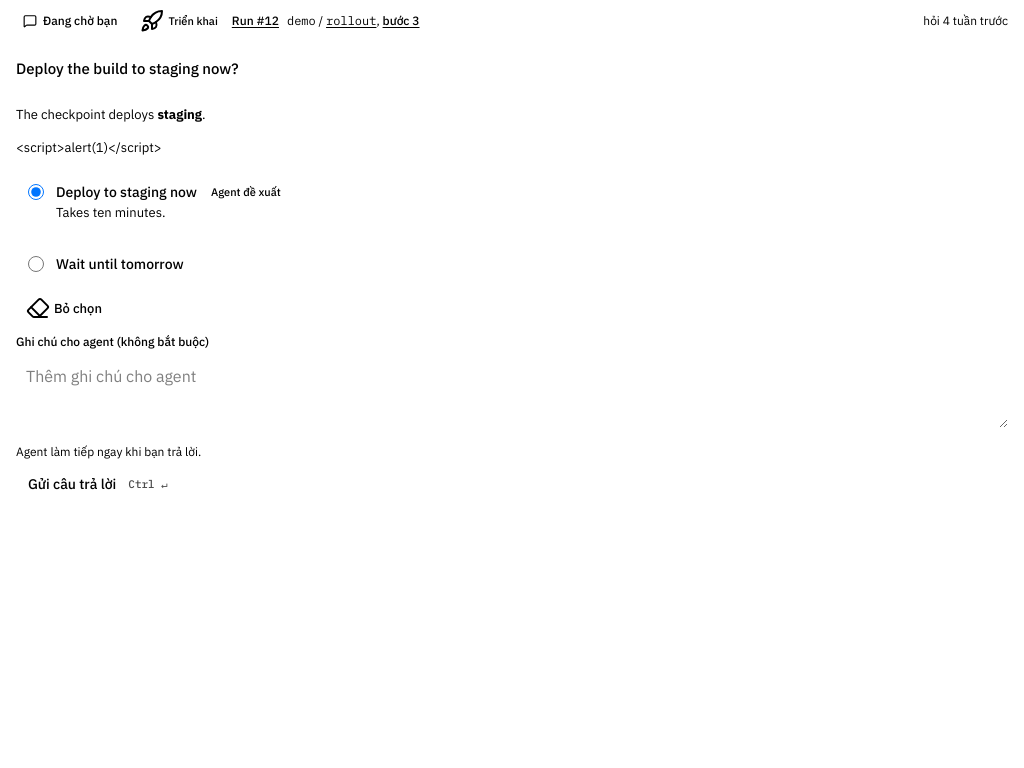
DecisionCard › sends the option and the words with the session's CSRF header, and says so in a toast
Click the radio button labelled "Wait until tomorrow": (36,264) top-left (28, 256), bottom-right (44, 272)
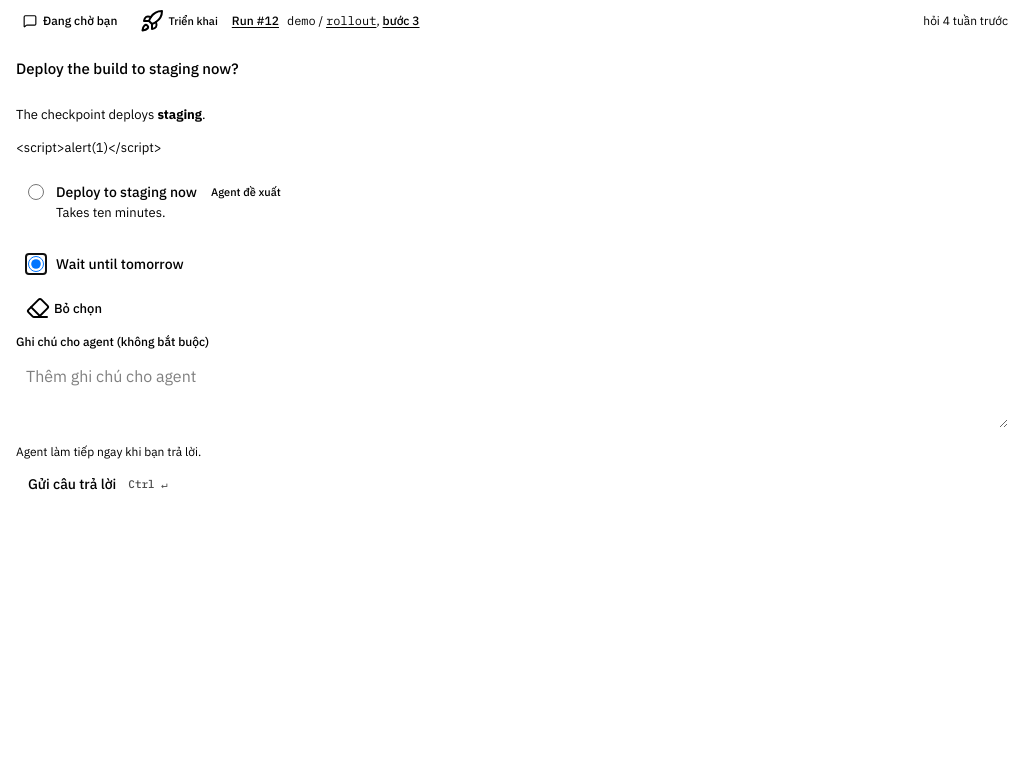
In the text box with test id "decision-text": (512,392) top-left (16, 356), bottom-right (1008, 428), type "  after the backup "
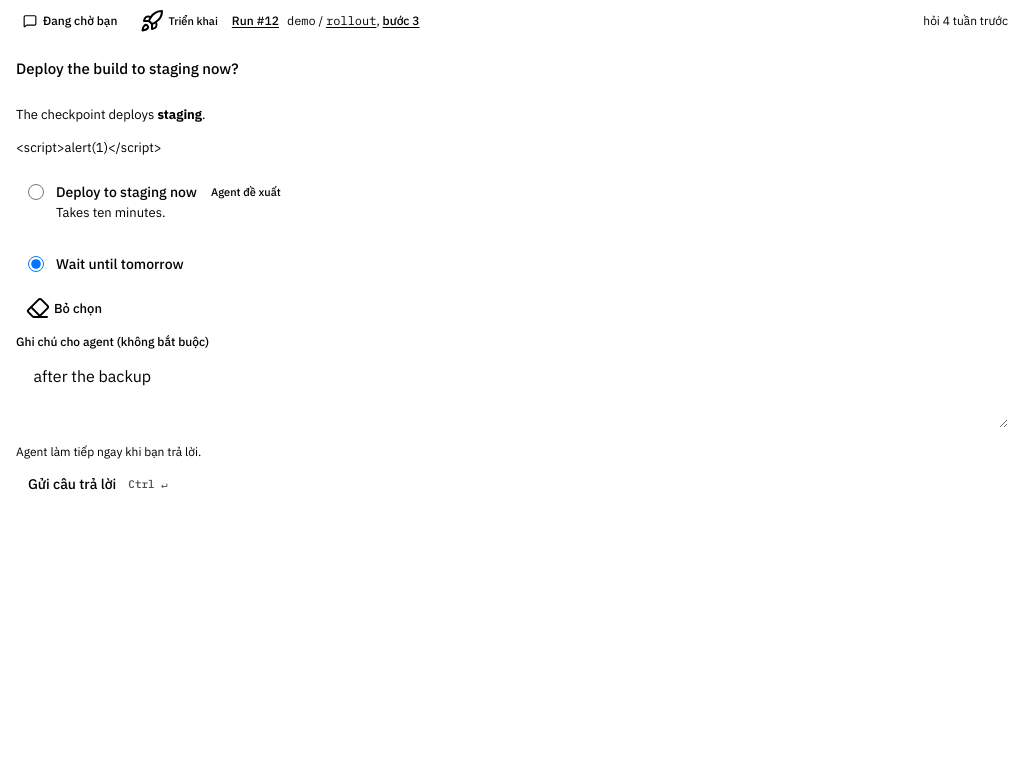
Click the button with test id "decision-send": (100,484) top-left (16, 468), bottom-right (184, 500)
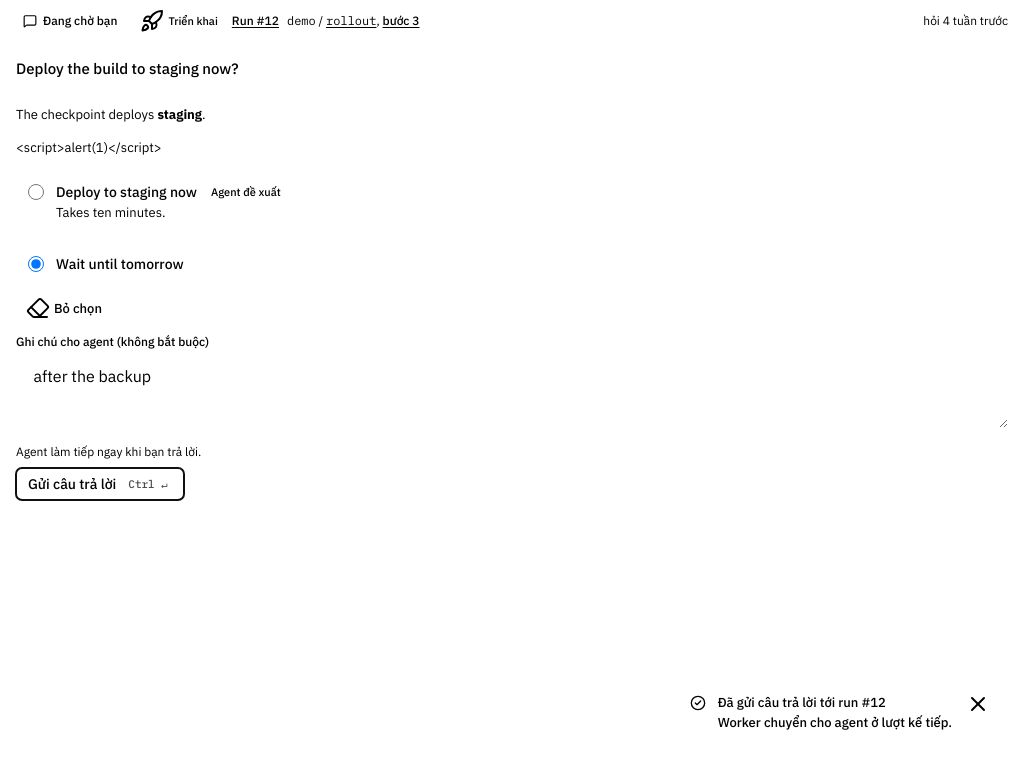
Check: the text "Đã gửi câu trả lời tới run #12" is shown, box top-left (718, 694), bottom-right (886, 711)
